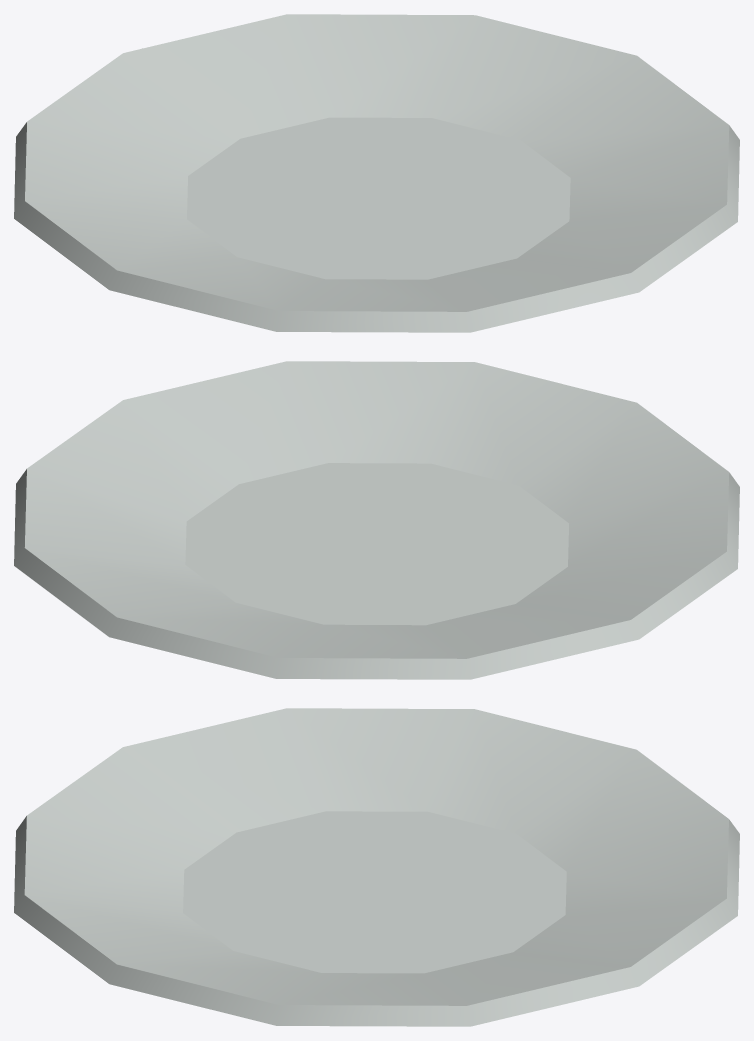
File: SM_Prop_Dishes_01.obj
The picture shows the model from 3 angles, top to bottom: view 1: azimuth 30°, elevation 25°; view 2: azimuth 150°, elevation 25°; view 3: azimuth 270°, elevation 25°; orthographic projection.
Parts seen in each view (by area): view 1: SM_Prop_Dishes_01_Mat_SwatchOverlay_PolygonOffice_01_Inst; view 2: SM_Prop_Dishes_01_Mat_SwatchOverlay_PolygonOffice_01_Inst; view 3: SM_Prop_Dishes_01_Mat_SwatchOverlay_PolygonOffice_01_Inst.
Part boxes in pixels (x1=…): SM_Prop_Dishes_01_Mat_SwatchOverlay_PolygonOffice_01_Inst: x1=14, y1=14, x2=739, y2=332; SM_Prop_Dishes_01_Mat_SwatchOverlay_PolygonOffice_01_Inst: x1=14, y1=361, x2=739, y2=679; SM_Prop_Dishes_01_Mat_SwatchOverlay_PolygonOffice_01_Inst: x1=14, y1=708, x2=739, y2=1026.
Bounding box in the file's own units: 0.4243 × 0.0331 × 0.4243.
Materials: 1 (1 with a texture image).
